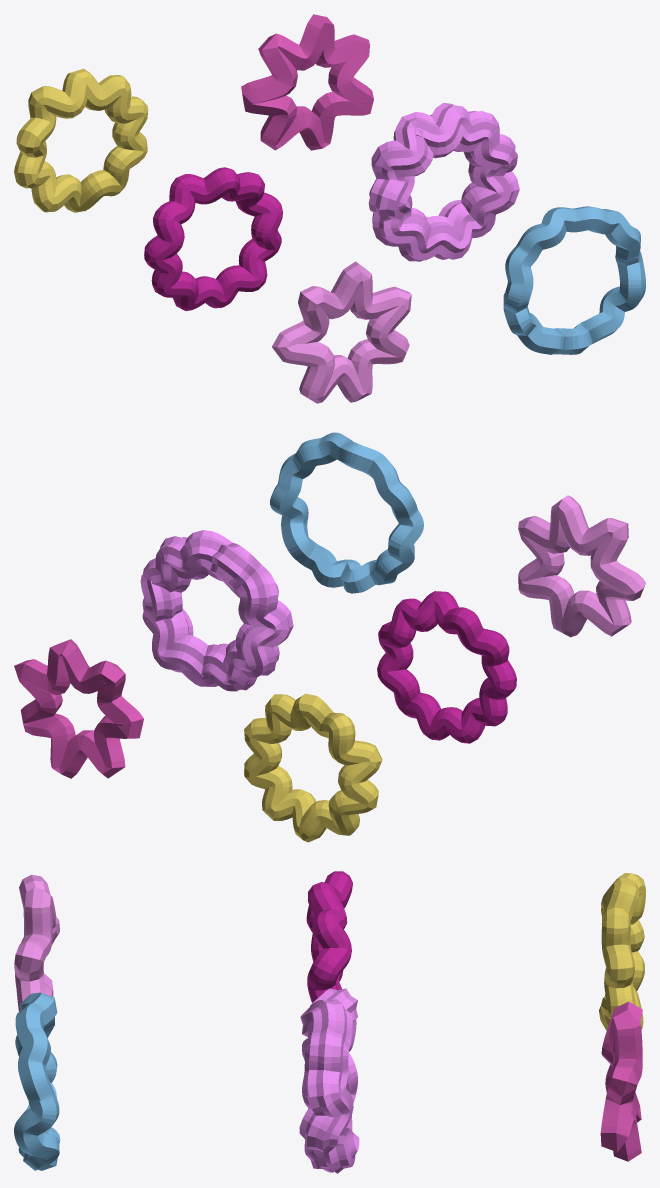
File: phong_mats_0_ClosedSplineTest_2023-06-04-21-23-00.gltf
The picture shows the model from 3 angles, top to bottom: view 1: azimuth 30°, elevation 25°; view 2: azimuth 150°, elevation 25°; view 3: azimuth 270°, elevation 25°; orthographic projection. The views are drawn at different scales.
Size of the model in its own units: 323 by 128 by 433.
